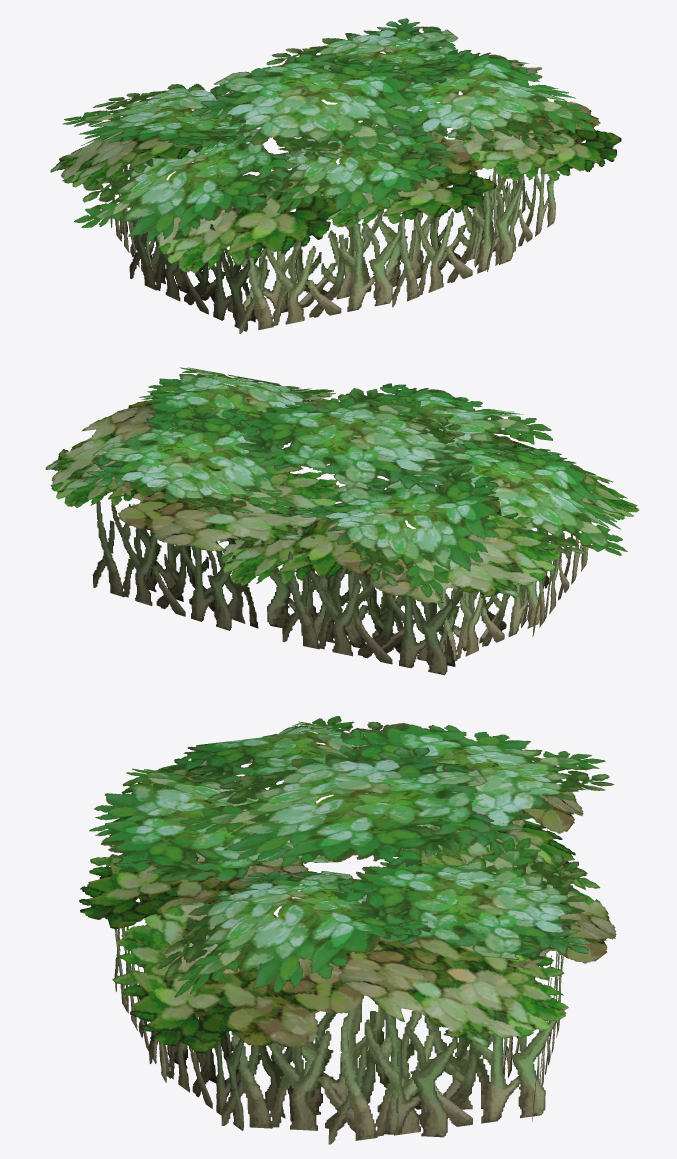
The model's file is nml-bd093.glb.
The picture shows the model from 3 angles, top to bottom: view 1: azimuth 30°, elevation 25°; view 2: azimuth 150°, elevation 25°; view 3: azimuth 270°, elevation 25°; orthographic projection. The views are drawn at different scales.
Visible parts, largest first — view 1: geom_node_0; view 2: geom_node_0; view 3: geom_node_0.
Boxes of the visible parts, x1,y1,x2,y2 form: geom_node_0: (50,18,621,333); geom_node_0: (45,367,639,675); geom_node_0: (79,716,616,1144).
Bounding box in the file's own units: 3.47 × 0.91 × 2.61.
1 material, 1 textured.
